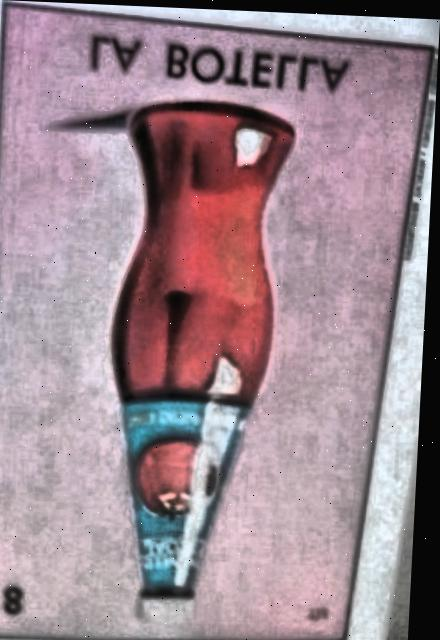La Botella: (0, 5, 437, 640)
